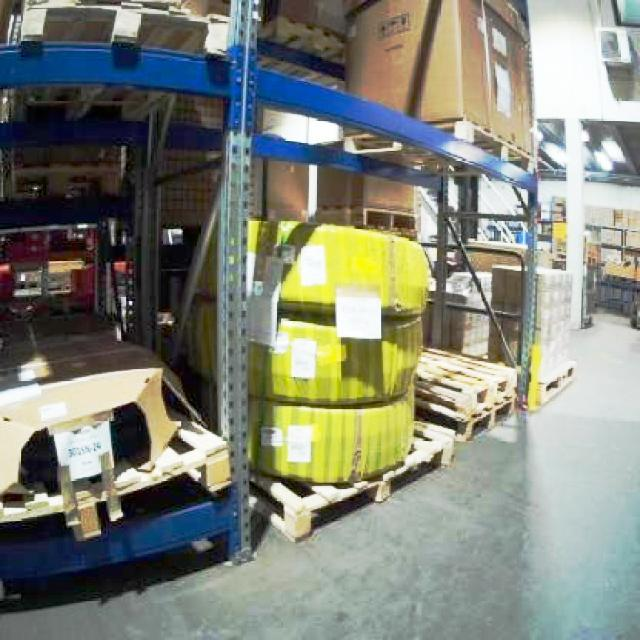ground: (0, 303, 638, 638)
pallet: (242, 215, 454, 540), (0, 363, 234, 543), (348, 0, 544, 186), (248, 422, 454, 540), (488, 262, 575, 409), (546, 194, 638, 331), (414, 343, 517, 442)
